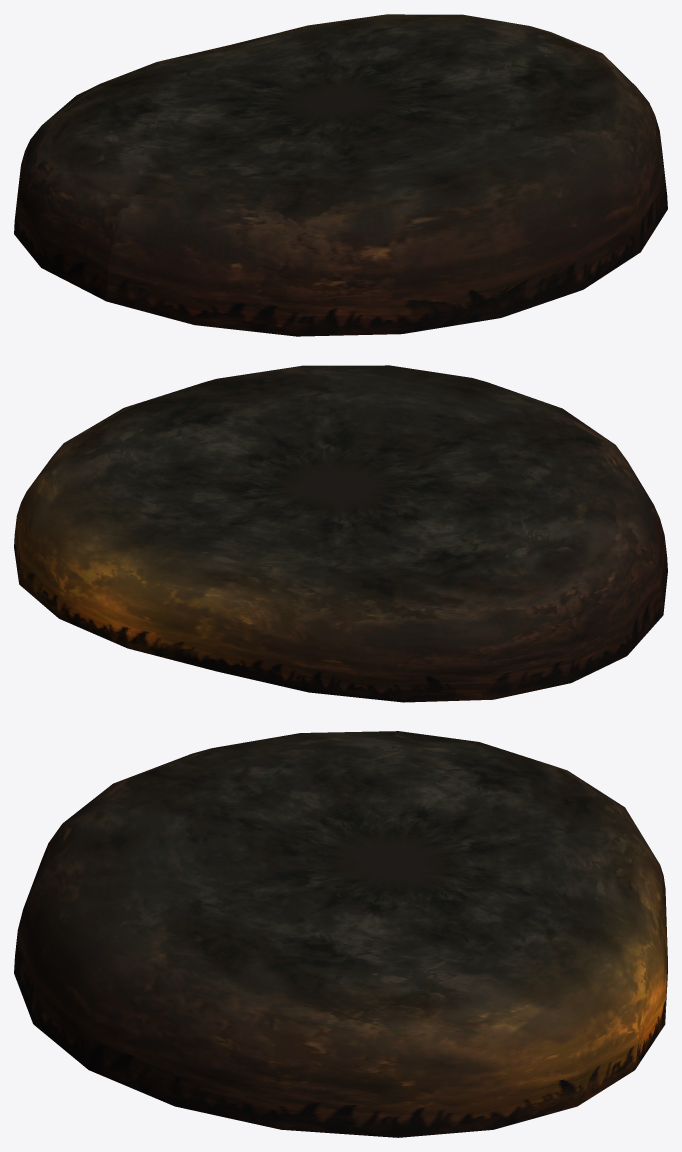
The model's file is Krossroads.glb.
The picture shows the model from 3 angles, top to bottom: view 1: azimuth 30°, elevation 25°; view 2: azimuth 150°, elevation 25°; view 3: azimuth 270°, elevation 25°; orthographic projection. The views are drawn at different scales.
Parts seen in each view (by area): view 1: CR_SkyDome_St_32.001; view 2: CR_SkyDome_St_32.001; view 3: CR_SkyDome_St_32.001.
Boxes of the visible parts, bbox=[...] form: CR_SkyDome_St_32.001: bbox=[14, 14, 667, 336]; CR_SkyDome_St_32.001: bbox=[14, 365, 667, 702]; CR_SkyDome_St_32.001: bbox=[14, 731, 667, 1137].
Bounding box in the file's own units: 20032 × 3748 × 16843.
21 materials, 21 textured.
